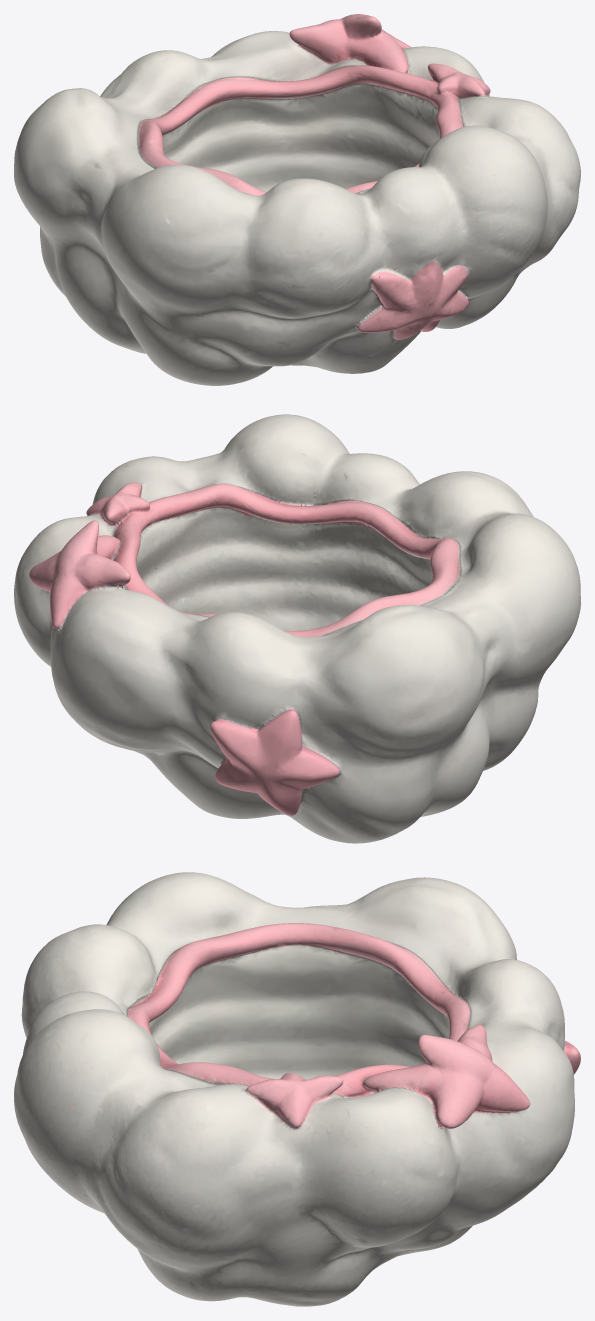
The model's file is raw.glb.
The picture shows the model from 3 angles, top to bottom: view 1: azimuth 30°, elevation 25°; view 2: azimuth 150°, elevation 25°; view 3: azimuth 270°, elevation 25°; orthographic projection. The views are drawn at different scales.
Parts seen in each view (by area): view 1: Mesh_0; view 2: Mesh_0; view 3: Mesh_0.
Part boxes in pixels (box(x1,y1,x2,y2)): Mesh_0: box(14, 14, 580, 385); Mesh_0: box(14, 414, 580, 843); Mesh_0: box(14, 872, 580, 1306).
Bounding box in the file's own units: 1.91 × 0.9554 × 1.81.
Materials: 1 (1 with a texture image).
